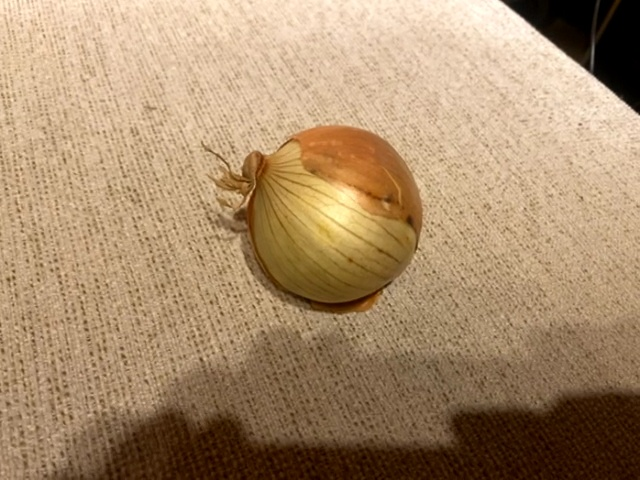onion: (202, 120, 430, 307)
